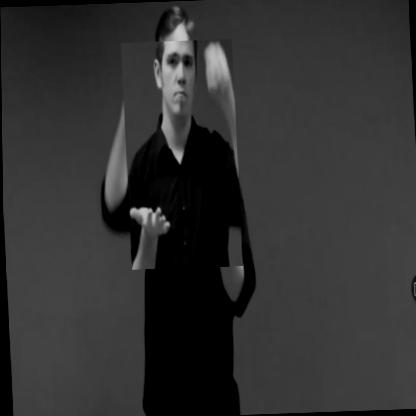Expensive: (120, 40, 242, 270)
